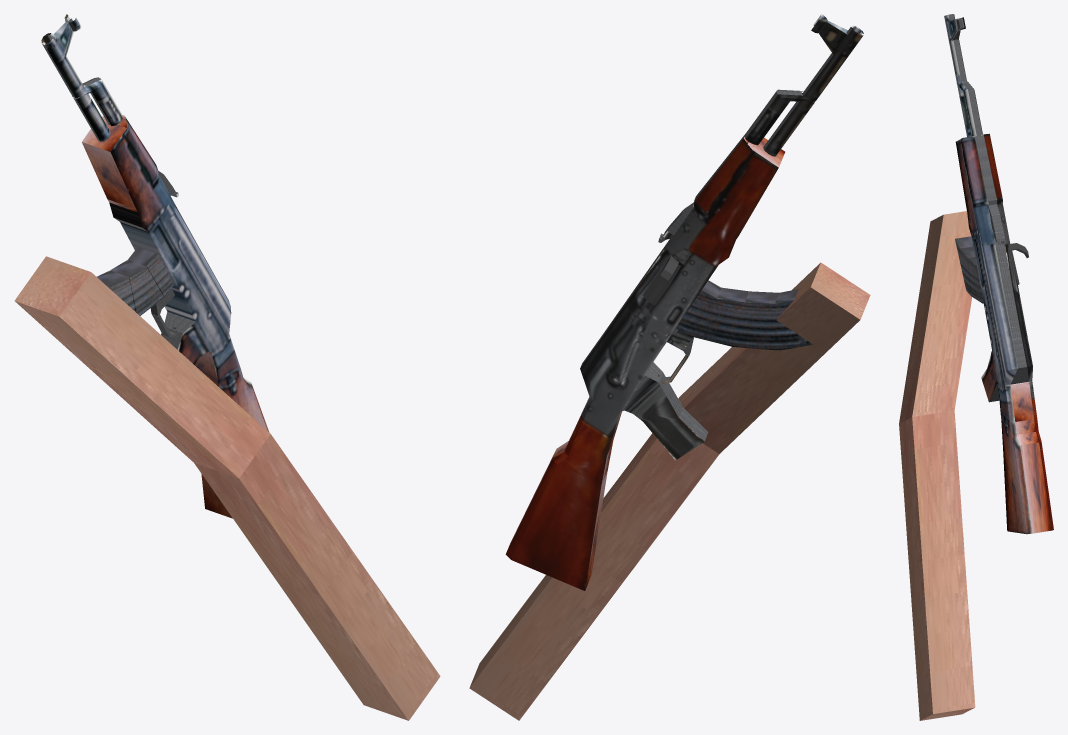
The picture shows the model from 3 angles, left to right: view 1: azimuth 30°, elevation 25°; view 2: azimuth 150°, elevation 25°; view 3: azimuth 270°, elevation 25°; orthographic projection. The views are drawn at different scales.
Visible parts, largest first — view 1: Cube.001_Cube.006, Cube.007_Cube.005, Cube.002_Cube.003; view 2: Cube.007_Cube.005, Cube.001_Cube.006, Cube.002_Cube.003, Plane; view 3: Cube.001_Cube.006, Cube.007_Cube.005, Cube.002_Cube.003.
Boxes of the visible parts, <box> form: Cube.001_Cube.006: <box>14,256,440,720</box>; Cube.007_Cube.005: <box>41,14,269,518</box>; Cube.002_Cube.003: <box>97,247,173,315</box>; Cube.007_Cube.005: <box>505,14,863,590</box>; Cube.001_Cube.006: <box>469,262,870,720</box>; Cube.002_Cube.003: <box>676,280,812,350</box>; Plane: <box>642,255,680,304</box>; Cube.001_Cube.006: <box>899,211,975,720</box>; Cube.007_Cube.005: <box>944,14,1053,534</box>; Cube.002_Cube.003: <box>955,236,983,303</box>.
Size of the model in its own units: 6.42 by 11.68 by 2.8.
